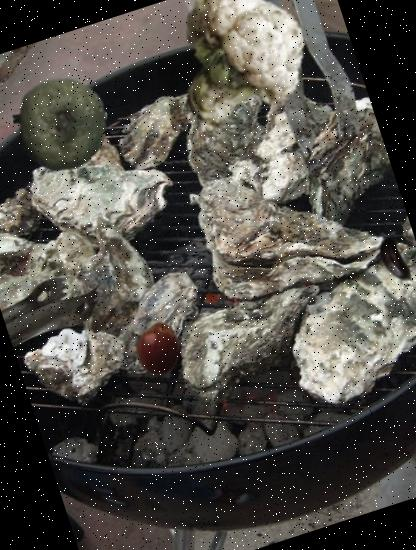Cauliflower: (147, 0, 328, 152)
Eggplant: (362, 228, 416, 294)
Limes: (1, 64, 121, 184)
Tomato: (124, 314, 192, 382)
